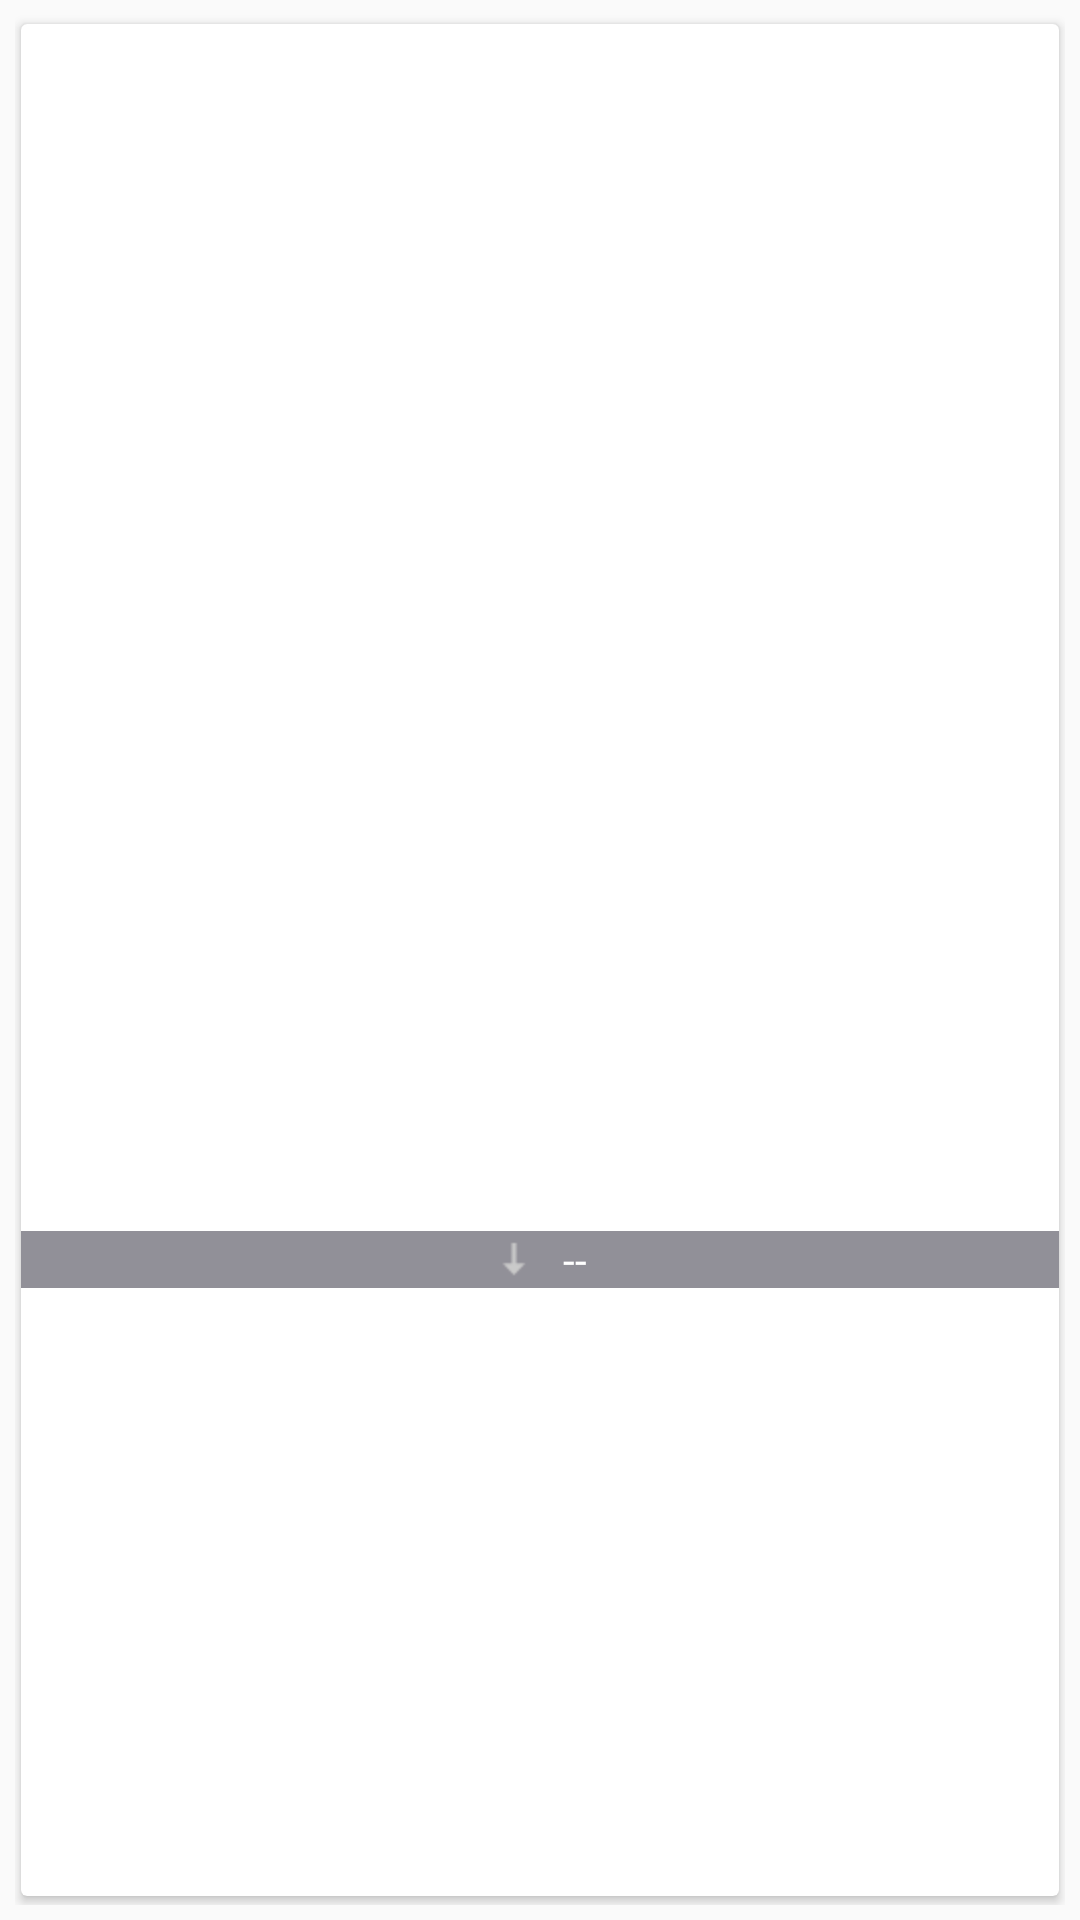

Named icons in this screenshot (1080px×1920px) and their centers, (x=x, y=y):
downloads: (x=514, y=1259)
